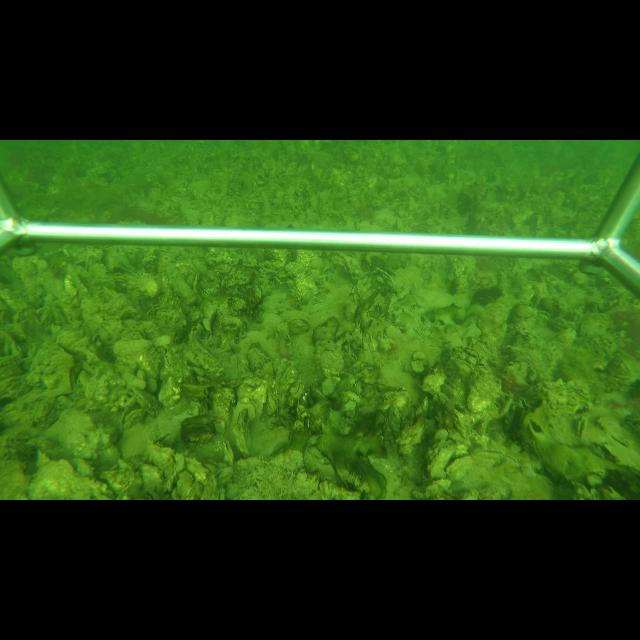Oyster-Closed: (305, 445, 343, 485), (232, 404, 253, 459), (426, 439, 455, 478), (376, 266, 394, 291), (222, 438, 234, 464), (365, 291, 379, 310), (313, 388, 328, 399)
Oyster-Open: (118, 403, 145, 432), (574, 414, 589, 442)
